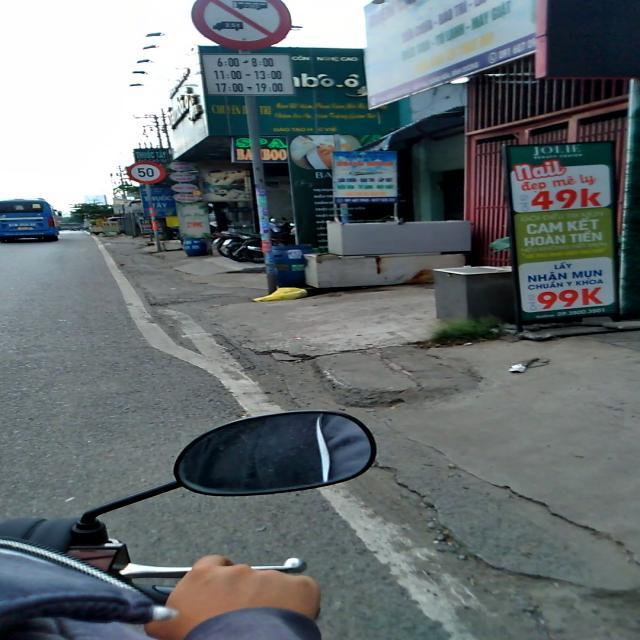P-127: (125, 156, 165, 188)
